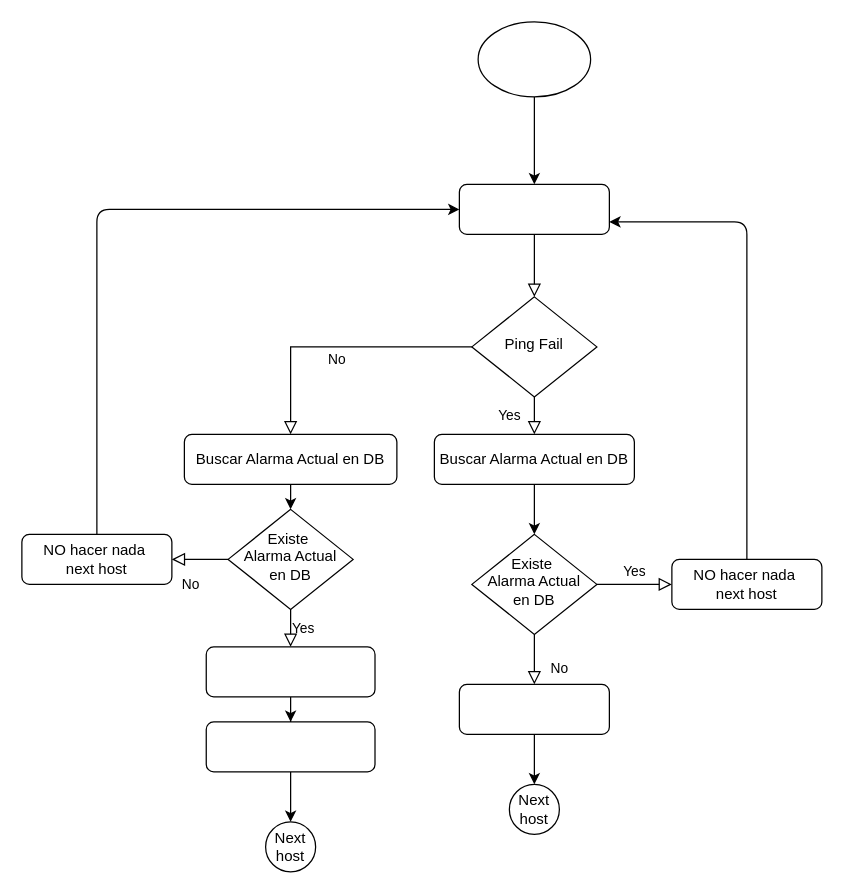
The diagram is 844 pixels wide and 894 high, and some of its shapes have lost their labels. The shapes that lost their labels are listed below. From the top down, each one's box as (x1, y1, x2, y2) in pixels, then its label:
(458, 183, 609, 234): Consultar ping host
(205, 646, 375, 697): Mandar al Historico DB Alarma Actual
(458, 683, 609, 734): Registrar en DB Alarma Actual
(205, 721, 375, 772): Eliminar DB Alarma Actual
